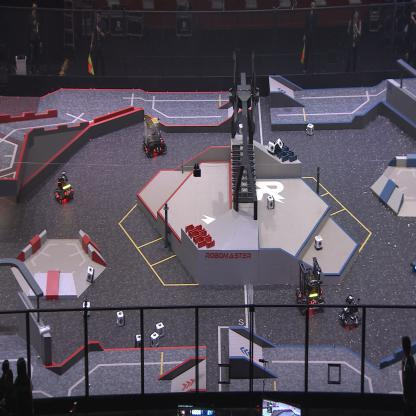car: (295, 257, 325, 314), (142, 115, 167, 158), (337, 294, 363, 327), (53, 171, 74, 205)
